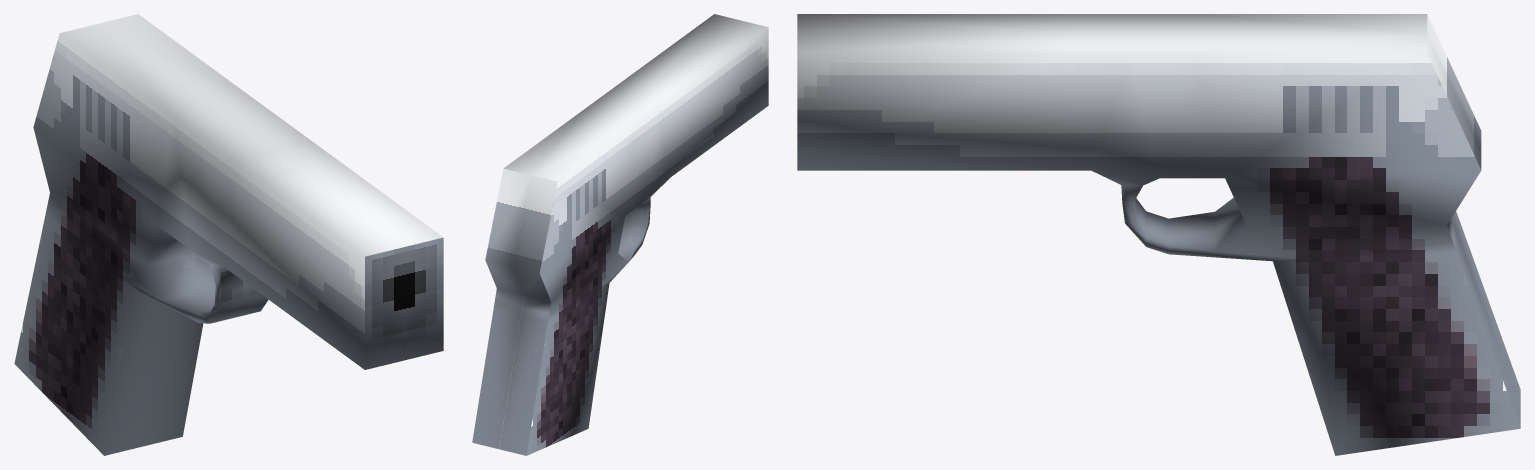
The picture shows the model from 3 angles, left to right: view 1: azimuth 30°, elevation 25°; view 2: azimuth 150°, elevation 25°; view 3: azimuth 270°, elevation 25°; orthographic projection. The views are drawn at different scales.
Parts seen in each view (by area): view 1: Cube; view 2: Cube; view 3: Cube.
Part boxes in pixels (x1=…): Cube: x1=14, y1=14, x2=443, y2=455; Cube: x1=472, y1=14, x2=768, y2=455; Cube: x1=797, y1=14, x2=1520, y2=455.
Bounding box in the file's own units: 0.0285 × 0.1349 × 0.2197.
Materials: 1 (1 with a texture image).
